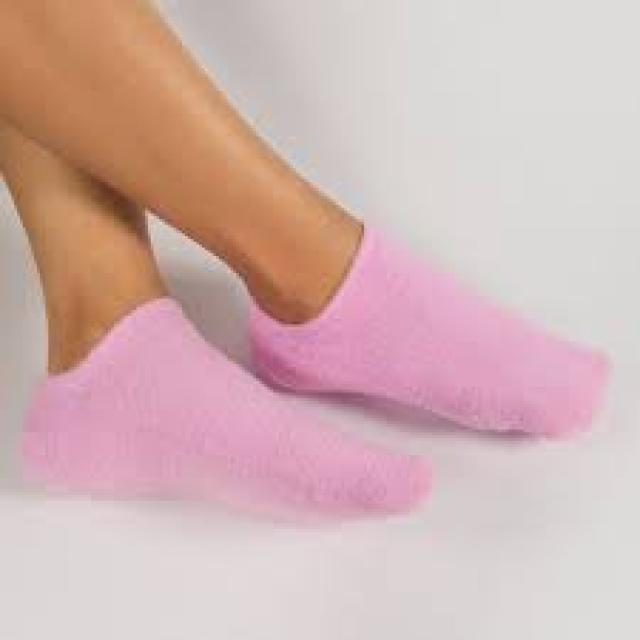sock: (17, 293, 432, 521), (244, 222, 608, 438)
